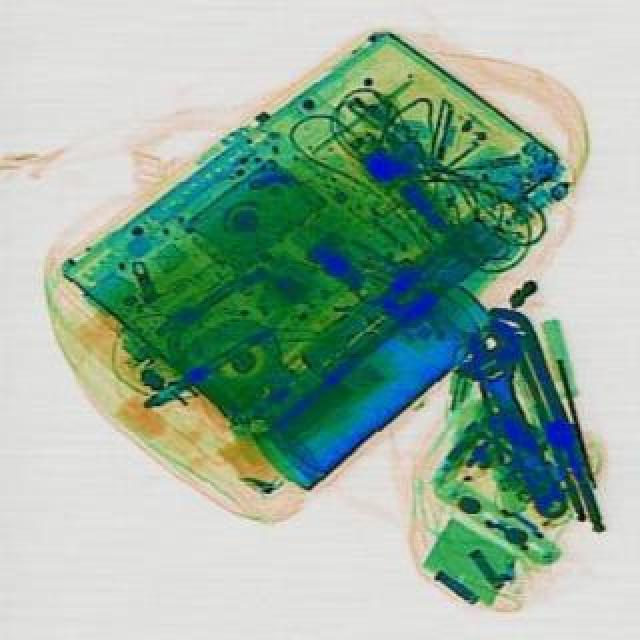scissors: (436, 314, 584, 530)
